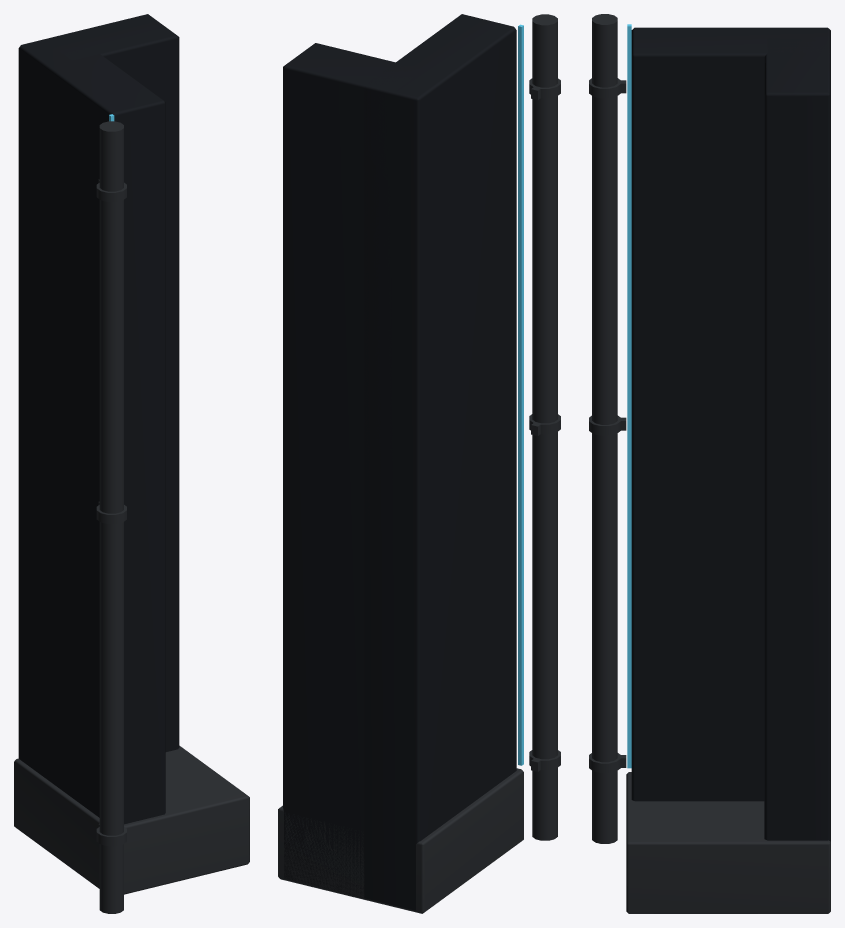
The model's file is Building_Facade_Panel_Corner.fbx.
3 views of the same model, side by side, from view 1: azimuth 30°, elevation 25°; view 2: azimuth 150°, elevation 25°; view 3: azimuth 270°, elevation 25° (orthographic). The views are drawn at different scales.
Visible parts, largest first — view 1: Building_Facade_Panel_Corner_LOD0; view 2: Building_Facade_Panel_Corner_LOD0; view 3: Building_Facade_Panel_Corner_LOD0.
Boxes of the visible parts, x1=… form: Building_Facade_Panel_Corner_LOD0: x1=14, y1=14, x2=249, y2=913; Building_Facade_Panel_Corner_LOD0: x1=278, y1=14, x2=560, y2=913; Building_Facade_Panel_Corner_LOD0: x1=589, y1=14, x2=830, y2=913.
Size of what is drawn, in the model's own units: 0.7399 by 3.4 by 0.9099.
